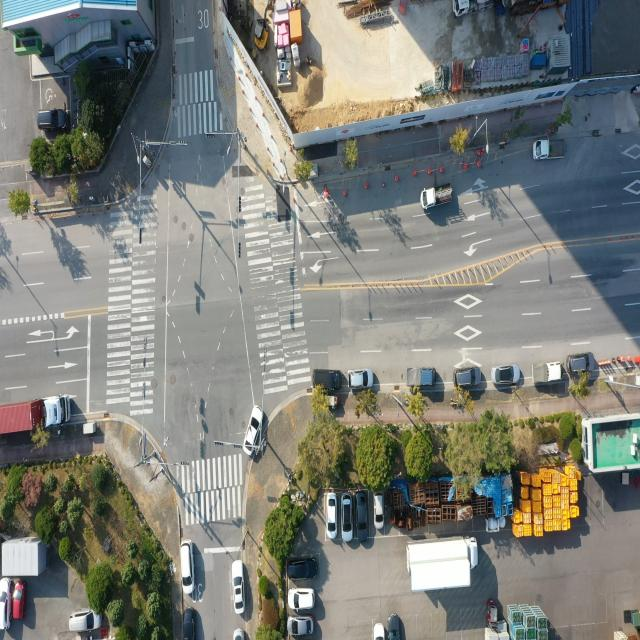car: (244, 404, 264, 454), (70, 610, 102, 636), (314, 368, 346, 392), (289, 558, 319, 582), (38, 107, 68, 131), (180, 539, 193, 593), (493, 363, 522, 386), (566, 353, 594, 375), (348, 369, 375, 391), (455, 366, 482, 388), (234, 562, 245, 615), (355, 493, 367, 541), (290, 590, 316, 612), (0, 577, 10, 631), (343, 495, 354, 543), (12, 580, 25, 619), (326, 494, 337, 540), (288, 618, 313, 638), (182, 606, 195, 640), (374, 494, 384, 528), (387, 614, 398, 640), (374, 624, 388, 640)
large_truck: (0, 397, 69, 438)
medium_truck: (404, 538, 477, 595), (455, 0, 480, 19)
small_truck: (403, 366, 437, 391), (532, 360, 564, 386), (423, 184, 455, 208), (535, 139, 567, 161)
